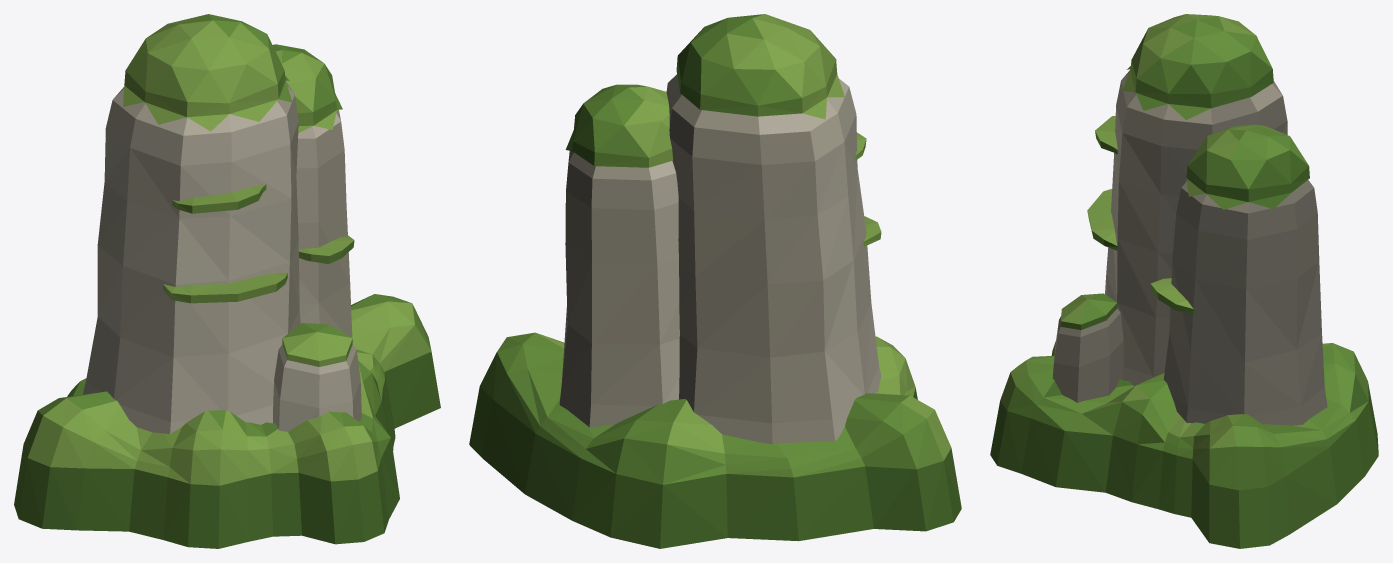
Rendered from karst_single.glb.
The picture shows the model from 3 angles, left to right: view 1: azimuth 30°, elevation 25°; view 2: azimuth 150°, elevation 25°; view 3: azimuth 270°, elevation 25°; orthographic projection. The views are drawn at different scales.
Visible parts, largest first — view 1: karst_single; view 2: karst_single; view 3: karst_single.
Boxes of the visible parts, x1,y1,x2,y2 form: karst_single: (14,14,440,548); karst_single: (469,14,961,548); karst_single: (990,14,1378,548).
Bounding box in the file's own units: 1.19 × 1.15 × 0.9713.
